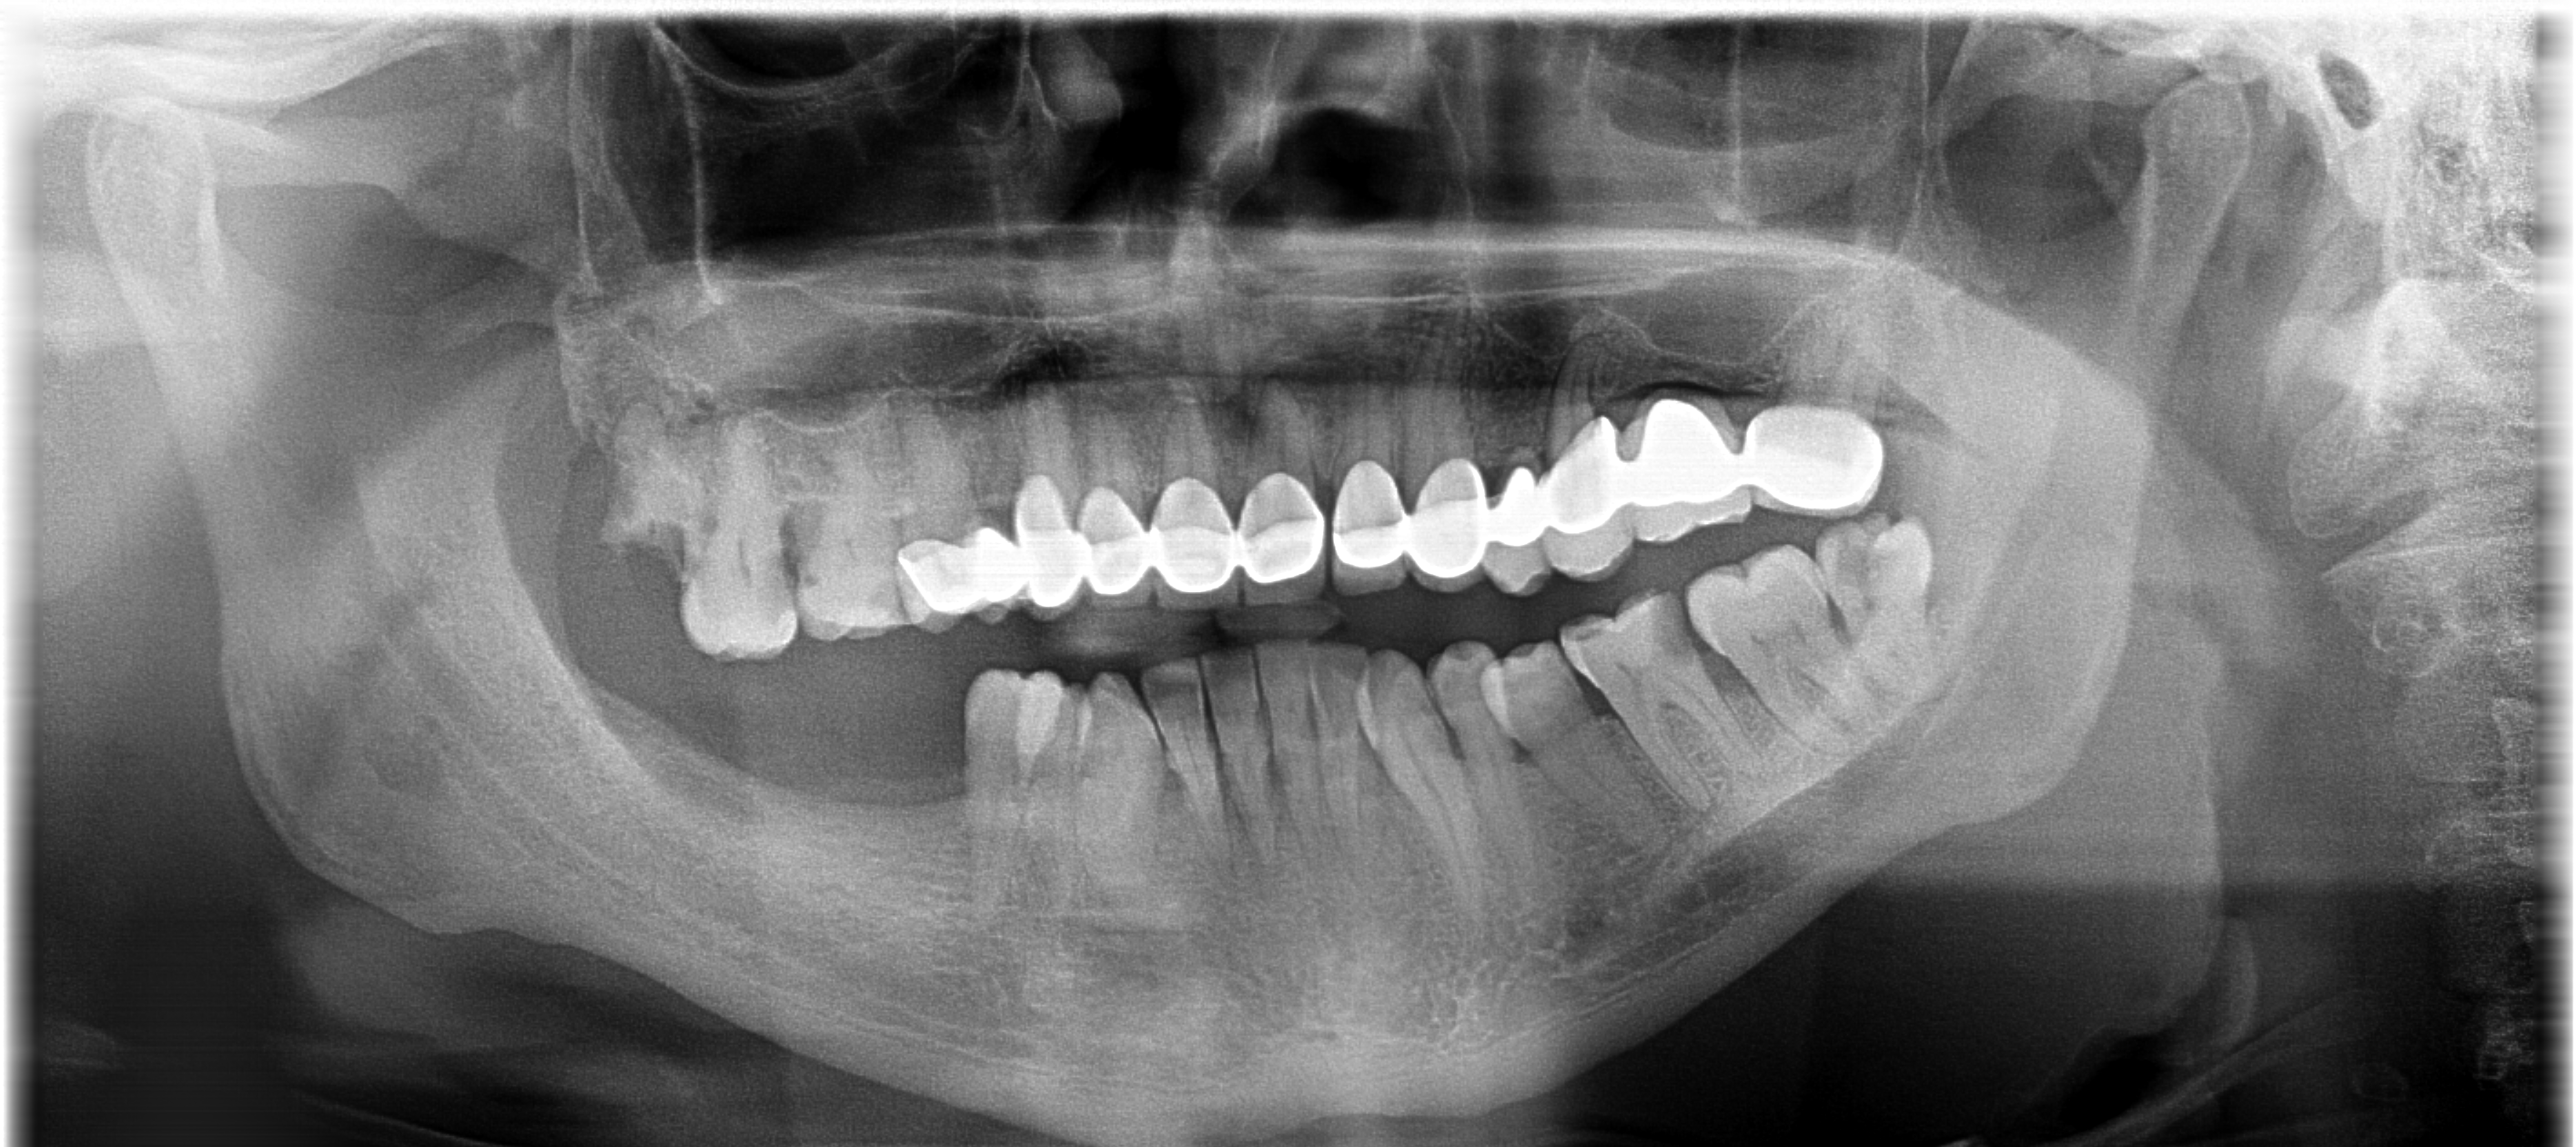apinamiento: (1337, 629, 1602, 766), (940, 662, 1170, 785)
cordal: (1810, 504, 1957, 702)
zona_dentula: (628, 626, 999, 904), (563, 412, 723, 672)
